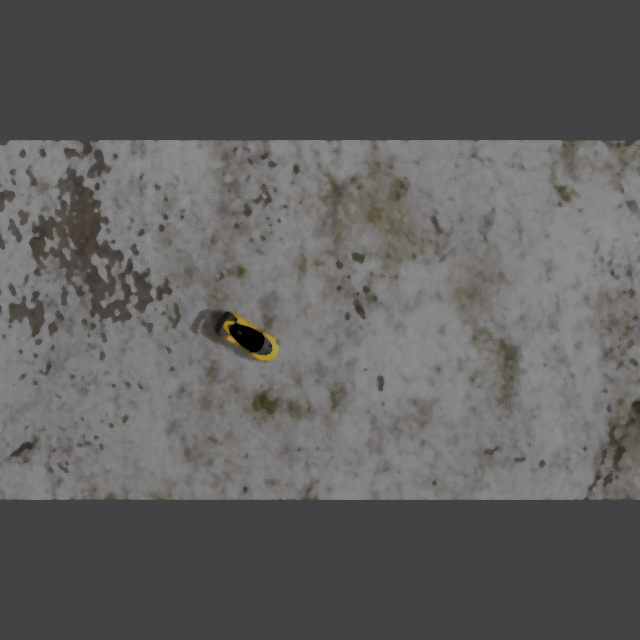car: (209, 307, 284, 369)
